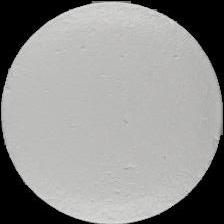68788-9217: (0, 0, 224, 224)
